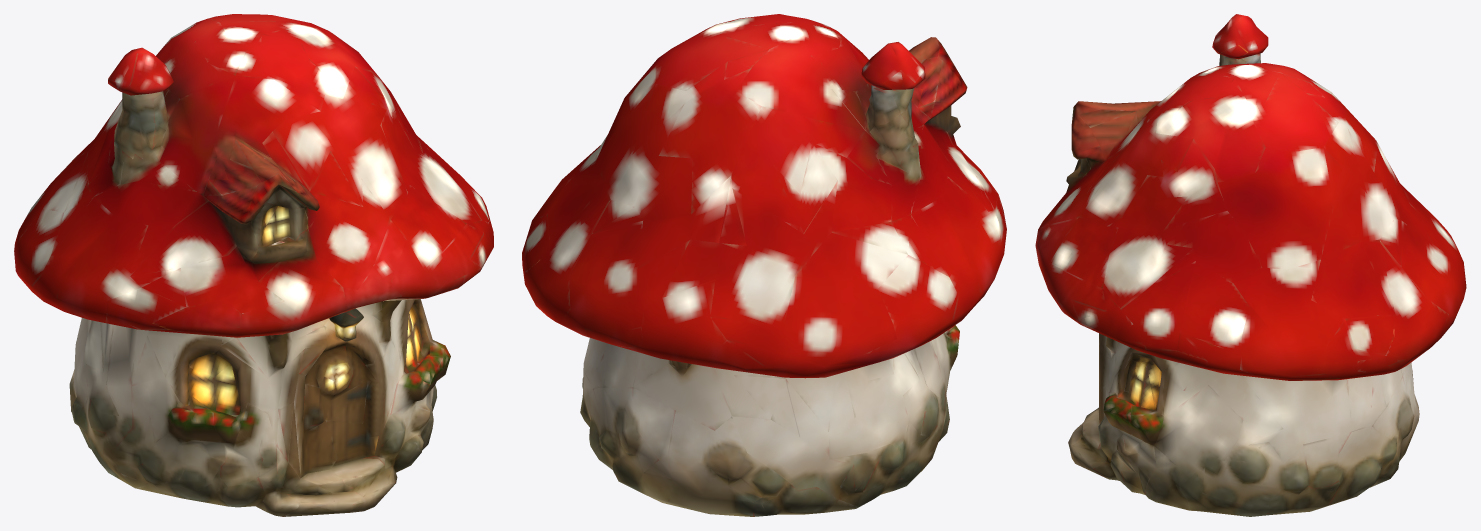
File: mushroom-hut.glb
3 renders of one model, left to right at view 1: azimuth 30°, elevation 25°; view 2: azimuth 150°, elevation 25°; view 3: azimuth 270°, elevation 25°, orthographic. The views are drawn at different scales.
Visible parts, largest first — view 1: Mesh_0.001; view 2: Mesh_0.001; view 3: Mesh_0.001.
Boxes of the visible parts, x1,y1,x2,y2 form: Mesh_0.001: (14, 14, 493, 516); Mesh_0.001: (522, 14, 1006, 516); Mesh_0.001: (1035, 14, 1466, 516).
Size of the model in its own units: 1.92 by 1.91 by 1.92.
Materials: 1 (1 with a texture image).
